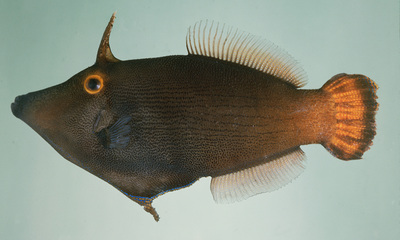fish: (10, 9, 380, 222)
